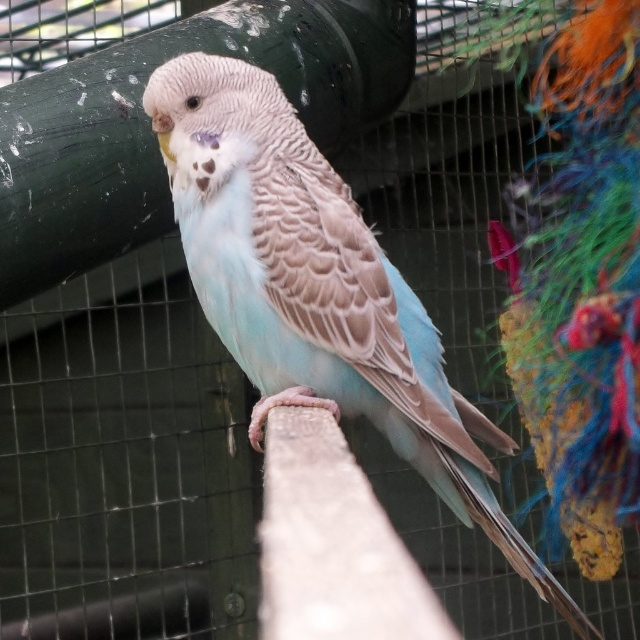Parrot: (143, 53, 606, 640)
